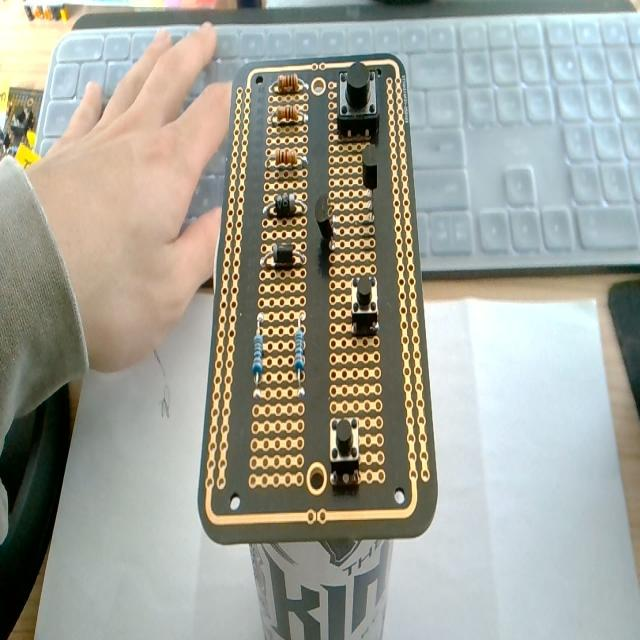diode: (264, 210, 307, 250), (264, 193, 305, 218), (261, 246, 306, 268)
resistor: (268, 74, 307, 138), (265, 110, 307, 145), (252, 312, 266, 398), (294, 312, 306, 398), (265, 164, 306, 187), (270, 76, 306, 95), (270, 155, 306, 172), (272, 109, 306, 126), (276, 148, 297, 166)
switch: (337, 65, 379, 139), (329, 415, 362, 488), (350, 272, 379, 336)
transistor: (361, 143, 378, 189)
